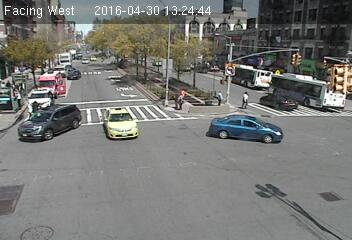neg: (171, 127, 213, 182), (121, 156, 151, 196), (265, 136, 293, 173), (62, 38, 90, 75), (308, 178, 333, 211), (62, 171, 86, 203), (48, 111, 71, 142), (286, 85, 308, 115), (255, 180, 275, 208), (138, 46, 158, 73), (237, 46, 257, 73), (96, 110, 116, 136), (107, 51, 126, 77), (197, 38, 216, 63), (293, 44, 311, 68)
pos: (175, 85, 193, 109), (9, 88, 24, 107), (241, 90, 255, 109), (213, 88, 226, 105)
